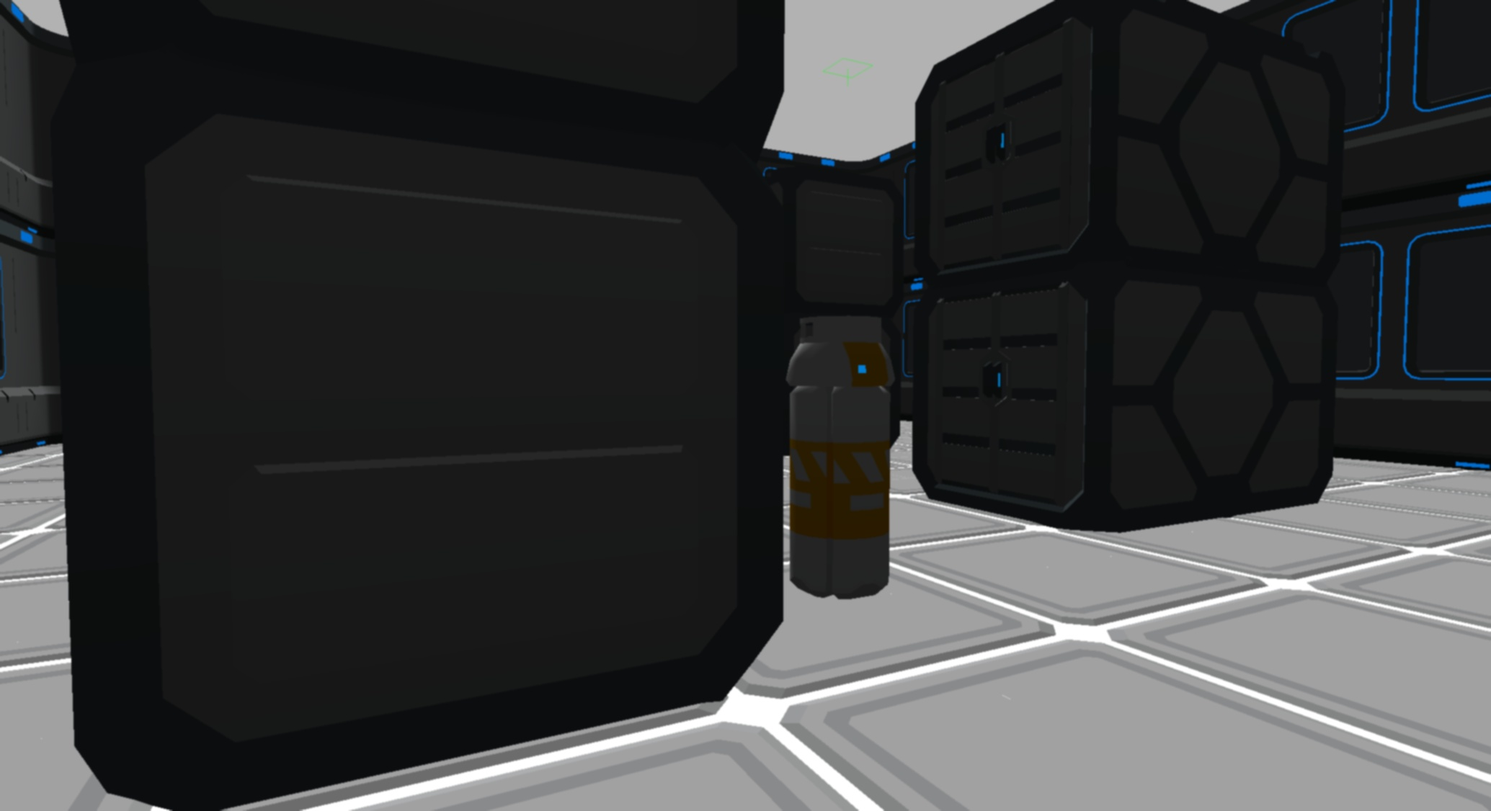yellow_barrel: (787, 316, 891, 598)
